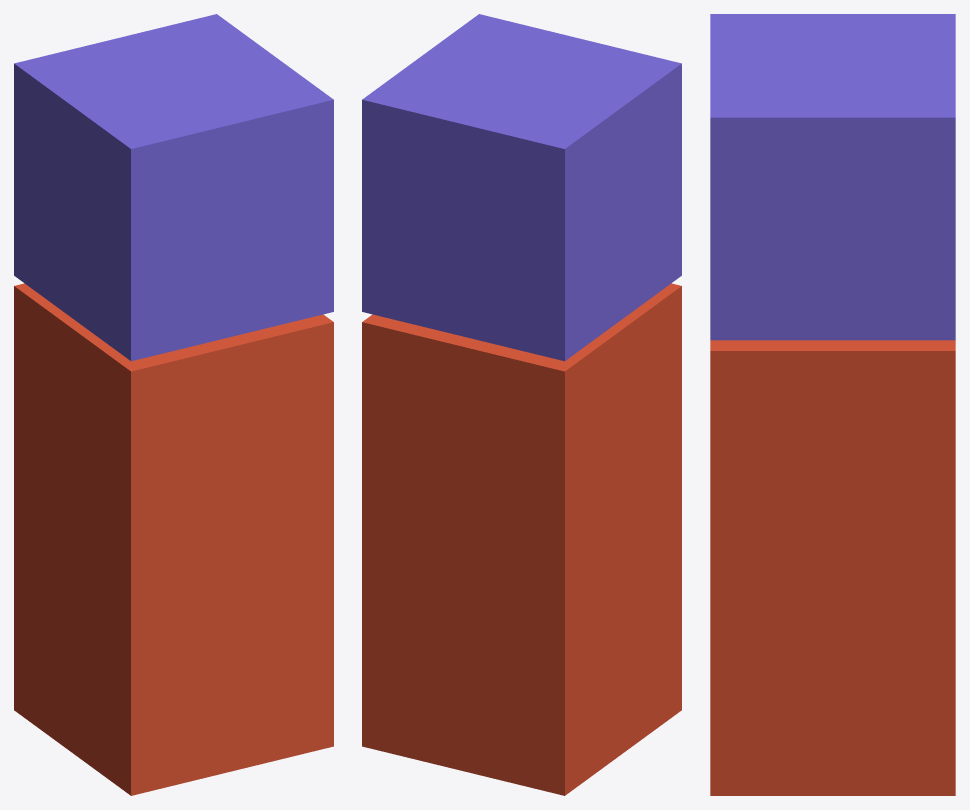
Rendered from player.glb.
3 renders of one model, left to right at view 1: azimuth 30°, elevation 25°; view 2: azimuth 150°, elevation 25°; view 3: azimuth 270°, elevation 25°, orthographic. The views are drawn at different scales.
Parts seen in each view (by area): view 1: Cube, Cube.001; view 2: Cube, Cube.001; view 3: Cube, Cube.001.
Part boxes in pixels (x1,y1,x2,y2): Cube: (14, 283, 333, 795); Cube.001: (14, 14, 333, 361); Cube: (362, 283, 681, 795); Cube.001: (362, 14, 681, 361); Cube: (710, 340, 955, 795); Cube.001: (710, 14, 955, 340).
Size of the model in its own units: 1 by 3.05 by 1.
